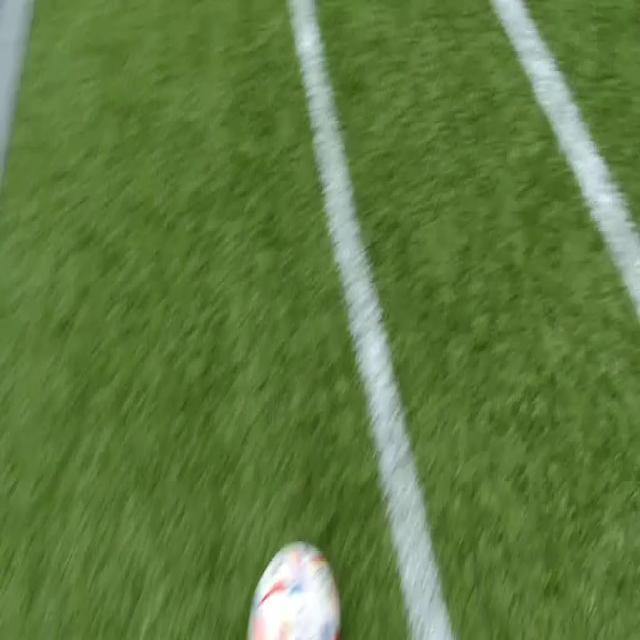ball: (249, 542, 341, 640)
